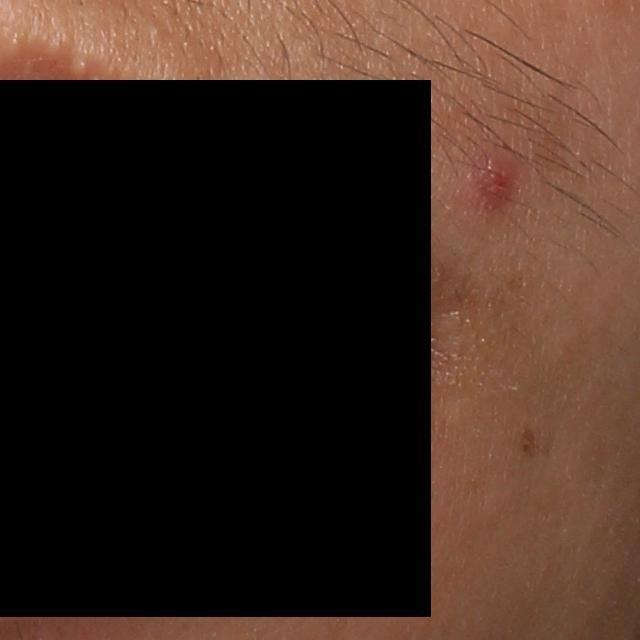papule: (465, 147, 522, 213)
